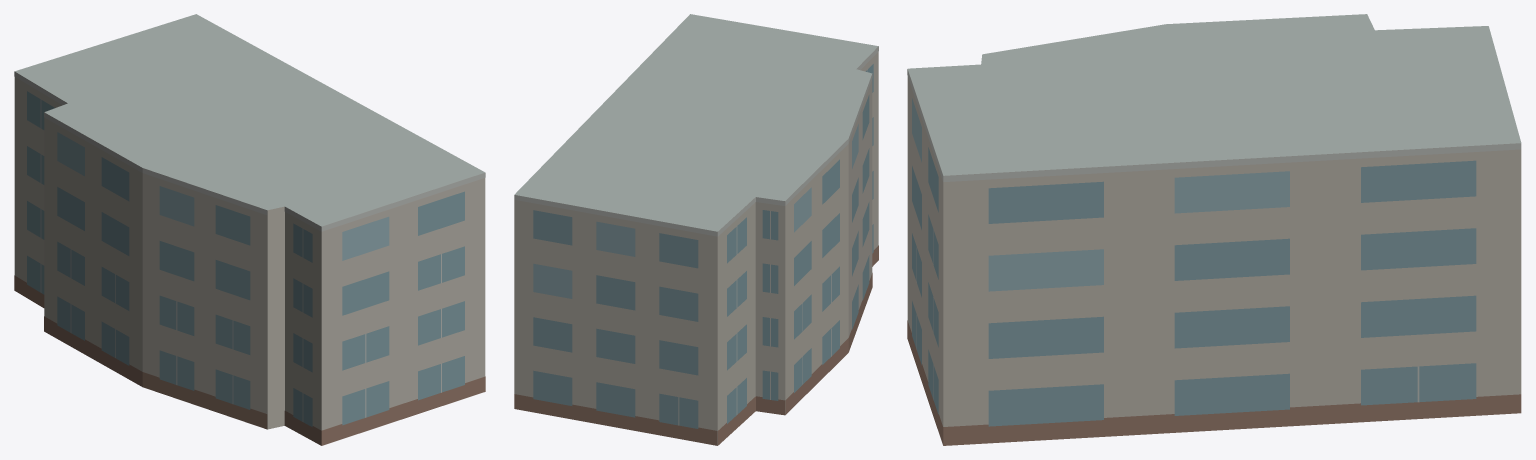
Rendered from survey-upis-32807071.glb.
3 views of the same model, side by side, from view 1: azimuth 30°, elevation 25°; view 2: azimuth 150°, elevation 25°; view 3: azimuth 270°, elevation 25° (orthographic). The views are drawn at different scales.
Parts seen in each view (by area): view 1: survey-upis-32807071.tmp; view 2: survey-upis-32807071.tmp; view 3: survey-upis-32807071.tmp.
Part boxes in pixels (box(x1,y1,x2,y2)): survey-upis-32807071.tmp: box(14, 14, 485, 445); survey-upis-32807071.tmp: box(514, 14, 878, 445); survey-upis-32807071.tmp: box(907, 14, 1521, 445).
Size of the model in its own units: 13.38 by 10.4 by 21.44.
